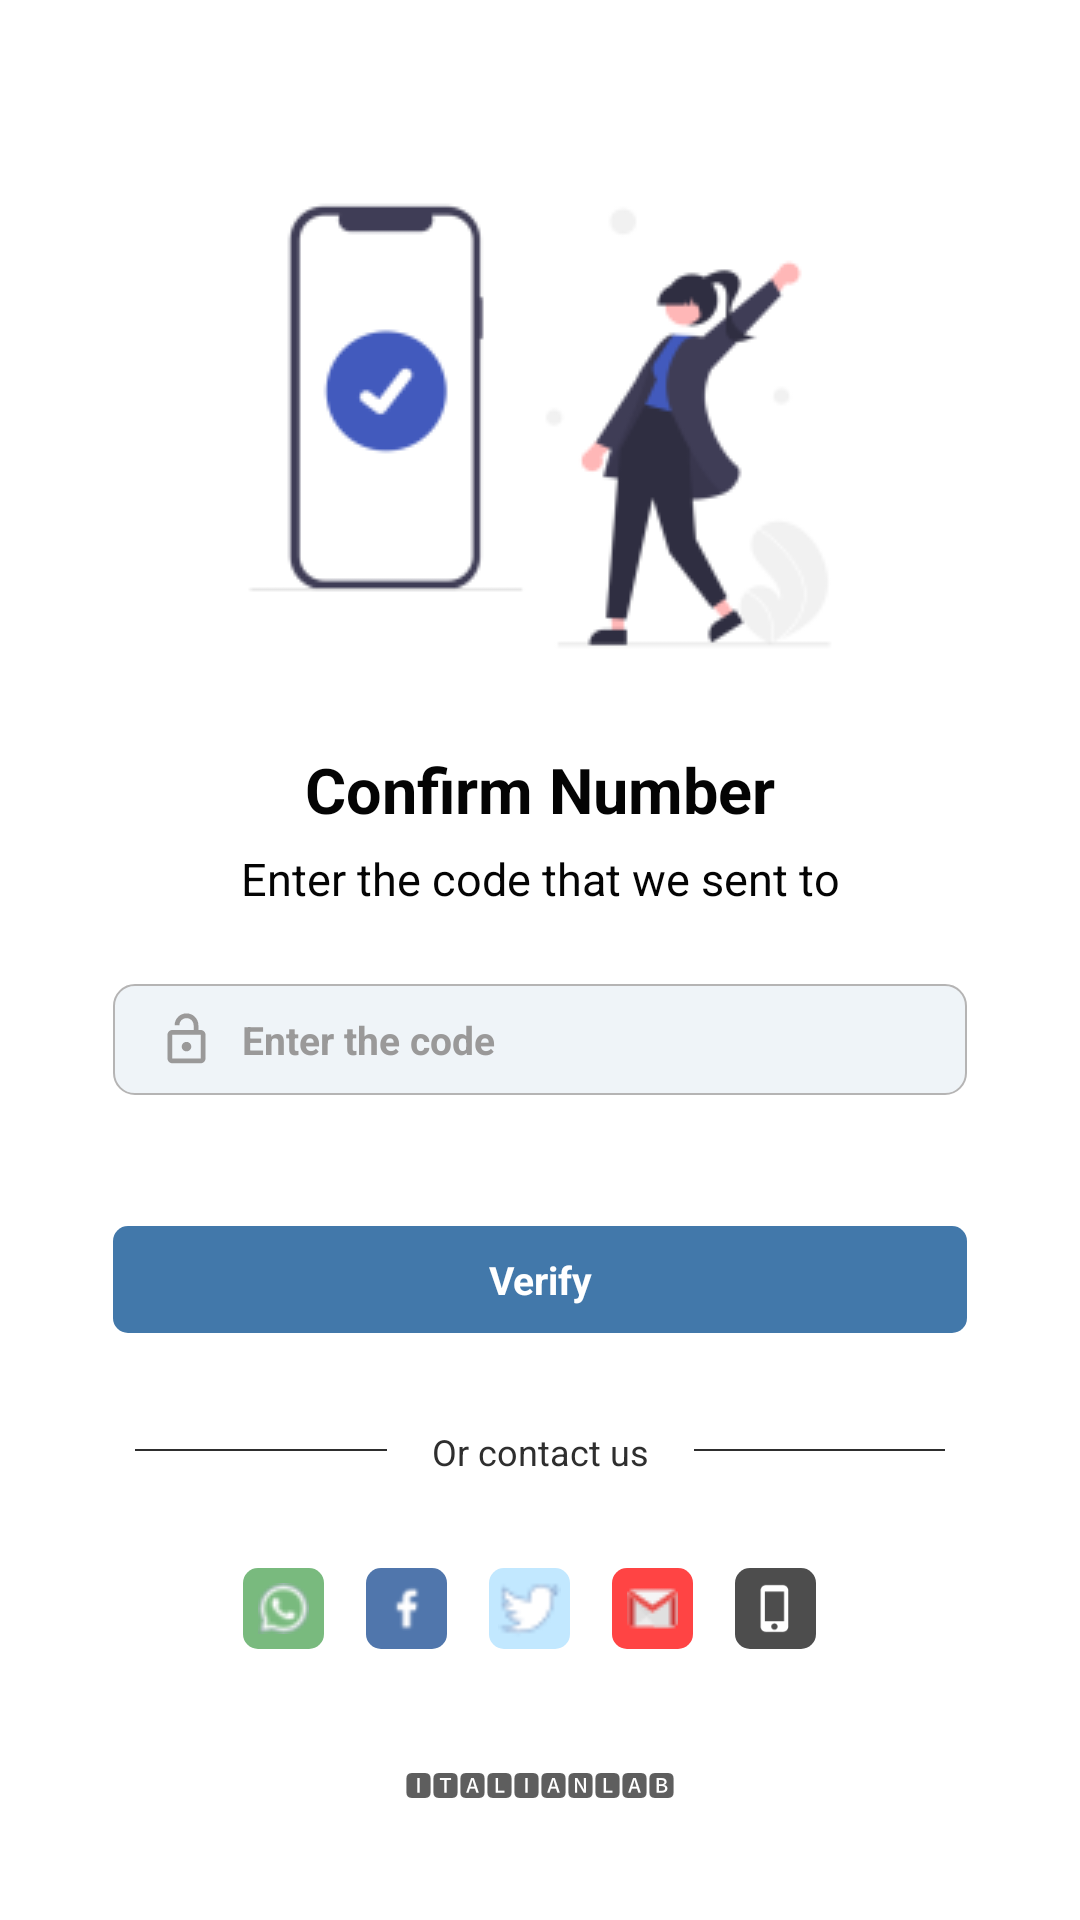

Icons on this 1080px x 1920px Android screen, each with its box as (x1, y1, x2, y2):
login contact phoned: (735, 1568, 816, 1649)
